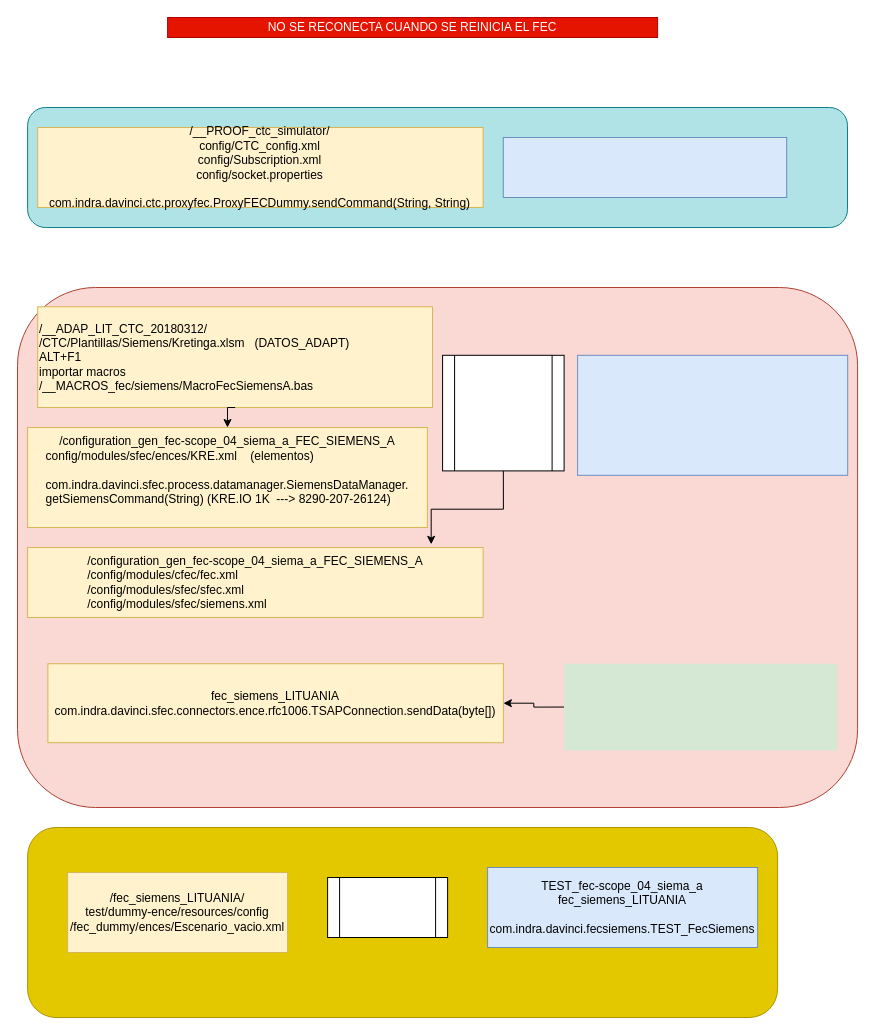
Some shapes in this 876 by 1035 pixel diagram are drawn without their labels. The shapes that lost their labels are listed below. From the top down, each one's box as (x1, y1, x2, y2) in pixels, then its label:
(502, 136, 787, 198): __CTC_DUMMY __PROOF_ctc_simulator com.indra.davinci.ctc.proxyfec.ProxyFECDummy
(442, 354, 564, 471): FEC SIEMENS
(577, 354, 848, 475): fec-scope_04_siema_a lib com.indra.davinci.common.app.DavinciAppManager
(564, 663, 837, 750): para jdk 1.6 /lib/rfc1006-1.0.0.jar /lib/rfc1006-lic-1.0.1.jar
(327, 876, 448, 938): PDS
